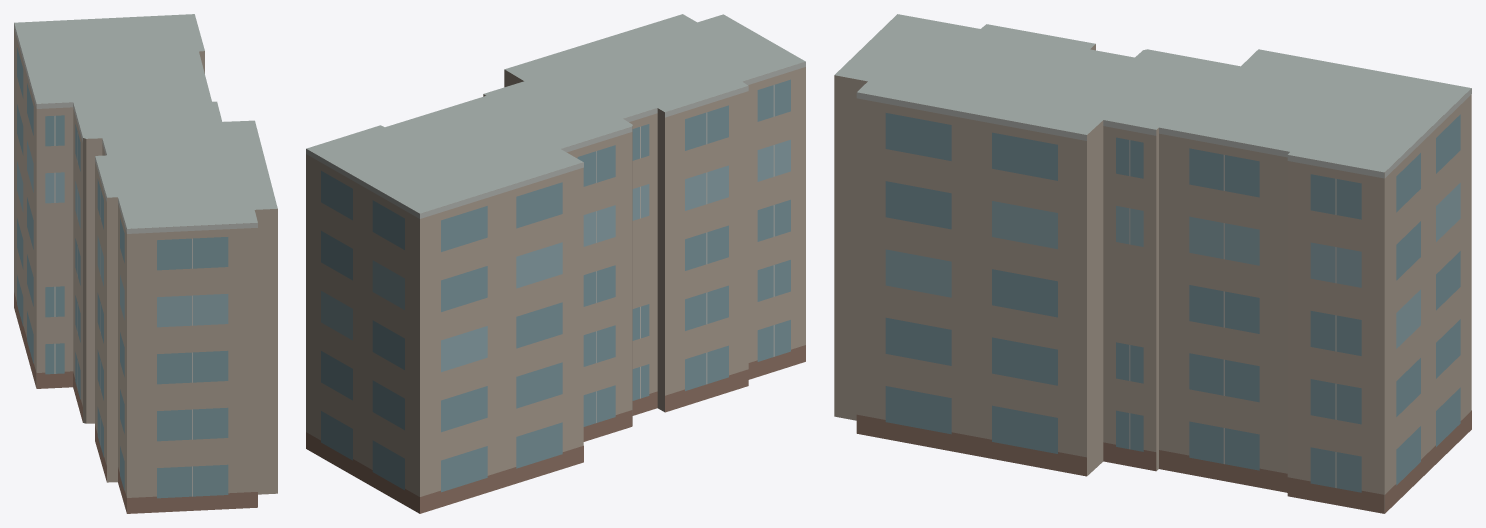
The model's file is survey-upis-32571941.glb.
3 views of the same model, side by side, from view 1: azimuth 30°, elevation 25°; view 2: azimuth 150°, elevation 25°; view 3: azimuth 270°, elevation 25° (orthographic). The views are drawn at different scales.
Parts seen in each view (by area): view 1: survey-upis-32571941.tmp; view 2: survey-upis-32571941.tmp; view 3: survey-upis-32571941.tmp.
Part boxes in pixels (x1,y1,x2,y2): survey-upis-32571941.tmp: (14, 14, 277, 513); survey-upis-32571941.tmp: (306, 14, 805, 513); survey-upis-32571941.tmp: (834, 14, 1471, 513).
Size of the model in its own units: 13.69 by 13.74 by 23.26.
